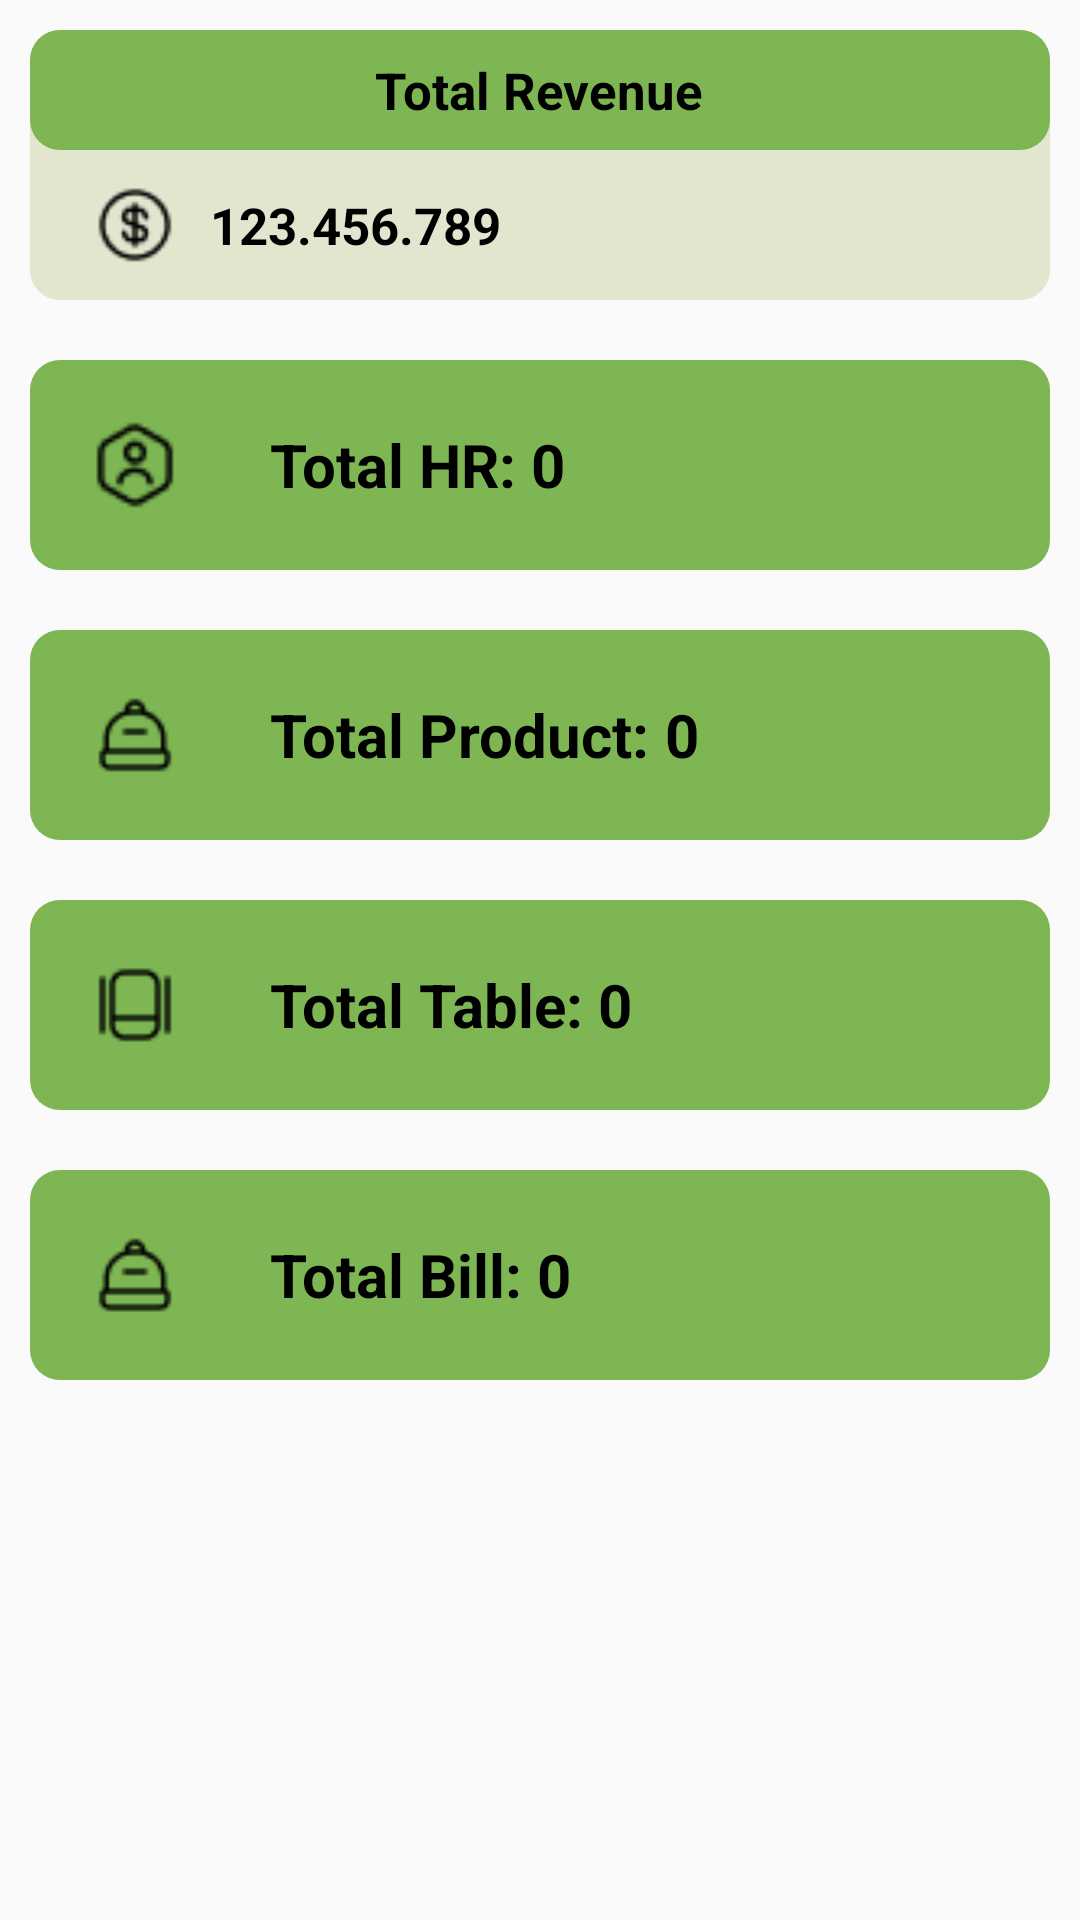

Icons on this 1080px x 1920px Android screen, each with its box as [x1,y1,x2,y2]:
dollar: [98,188,172,262]
